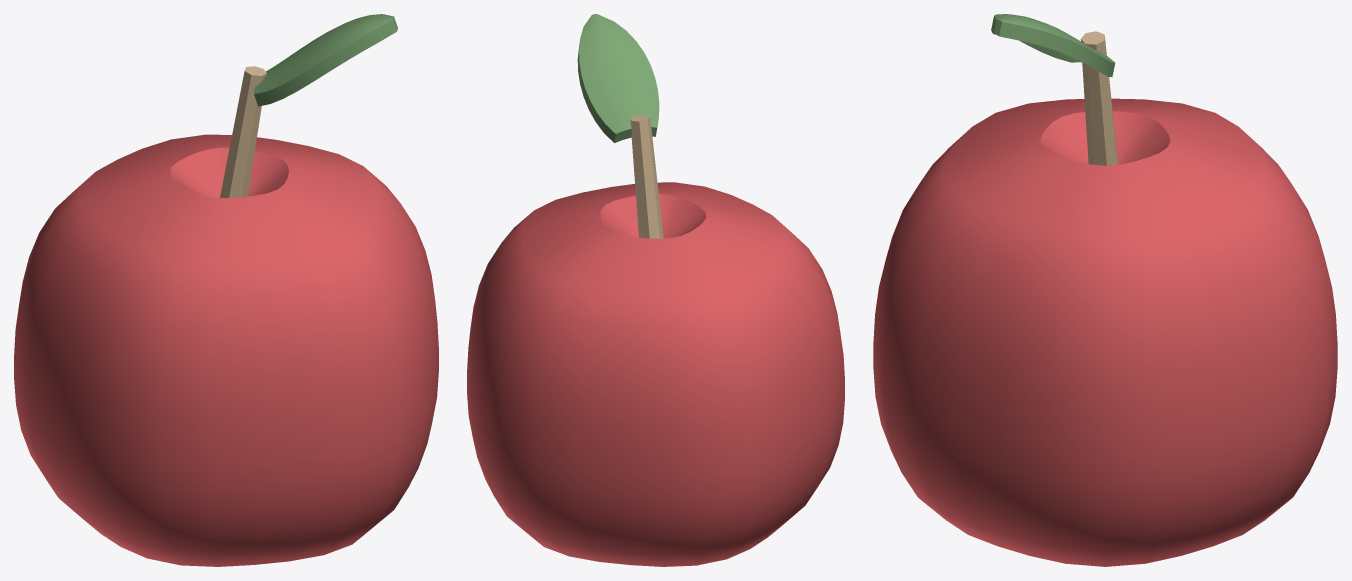
The model's file is fresh-produce-and-groceries-apple-red-5bd9c939__24320.glb.
3 views of the same model, side by side, from view 1: azimuth 30°, elevation 25°; view 2: azimuth 150°, elevation 25°; view 3: azimuth 270°, elevation 25° (orthographic). The views are drawn at different scales.
Visible parts, largest first — view 1: apple-red; view 2: apple-red; view 3: apple-red.
Boxes of the visible parts, x1,y1,x2,y2 form: apple-red: (14,14,438,566); apple-red: (467,14,844,566); apple-red: (873,14,1337,566).
Bounding box in the file's own units: 0.076 × 0.1023 × 0.0766.
